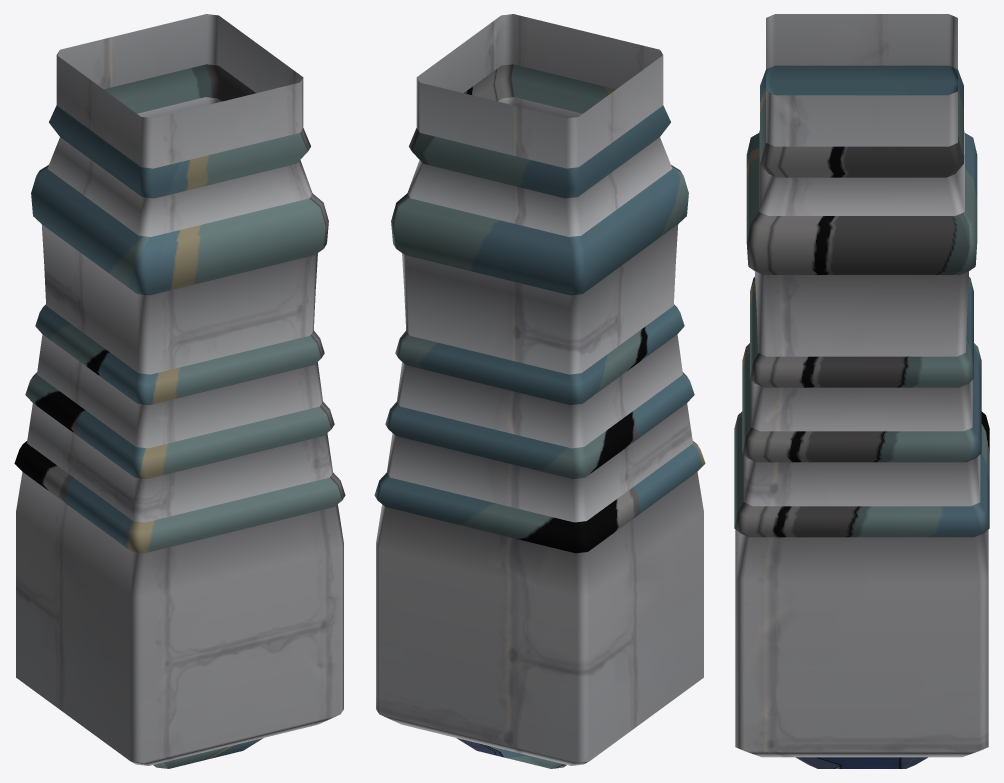
The model's file is SM_Column_Bottom.fbx.
3 views of the same model, side by side, from view 1: azimuth 30°, elevation 25°; view 2: azimuth 150°, elevation 25°; view 3: azimuth 270°, elevation 25° (orthographic). The views are drawn at different scales.
Visible parts, largest first — view 1: SM_Column_Bottom; view 2: SM_Column_Bottom; view 3: SM_Column_Bottom.
Boxes of the visible parts, x1,y1,x2,y2 form: SM_Column_Bottom: [14, 14, 345, 768]; SM_Column_Bottom: [374, 14, 705, 768]; SM_Column_Bottom: [734, 14, 989, 768].
Size of the model in its own units: 0.3598 by 1.08 by 0.3598.
